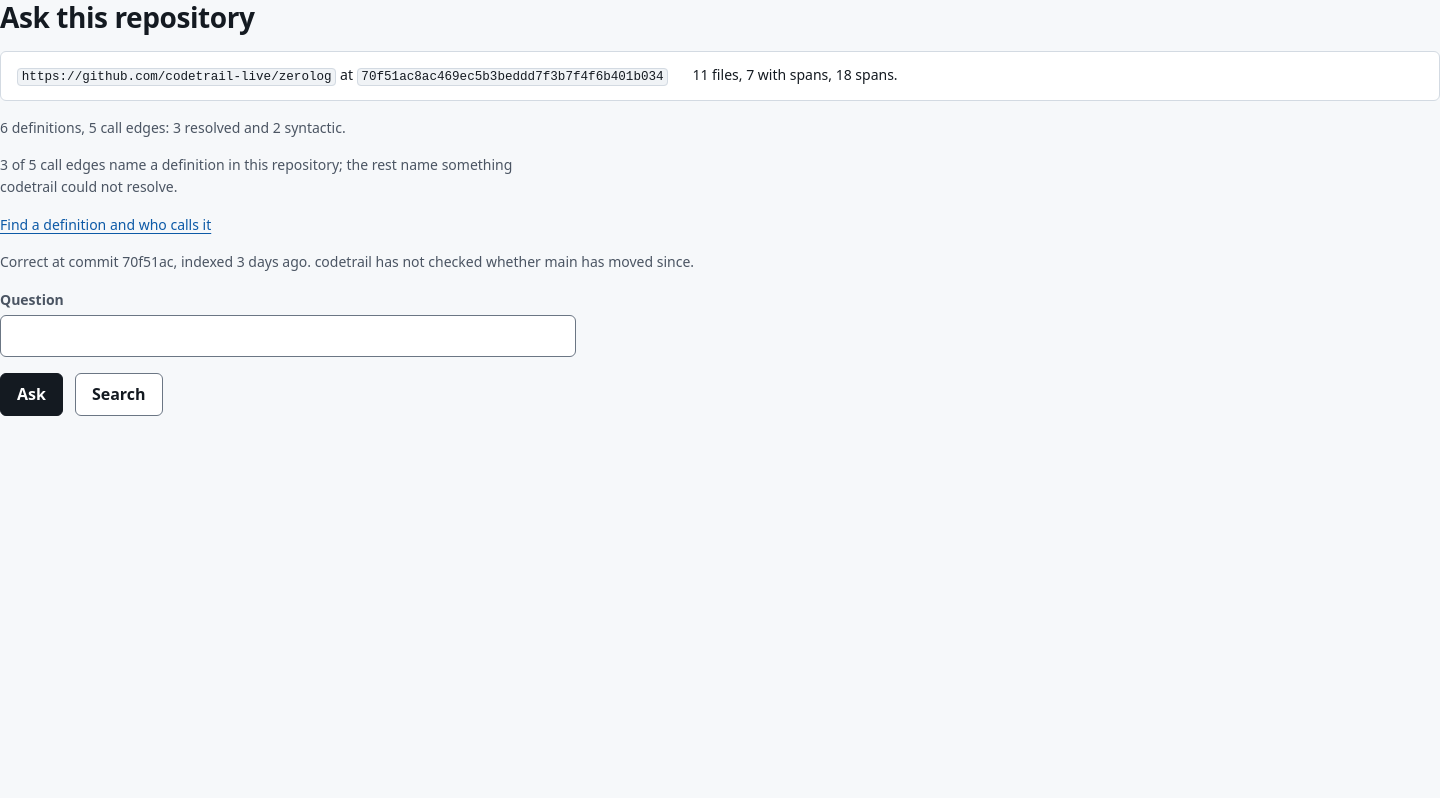
asking › an answered response renders the answer, its markers and its citations
Type "how does Push work" into the field labelled "Question". click: point(288, 336)
box: [0,315,576,357]
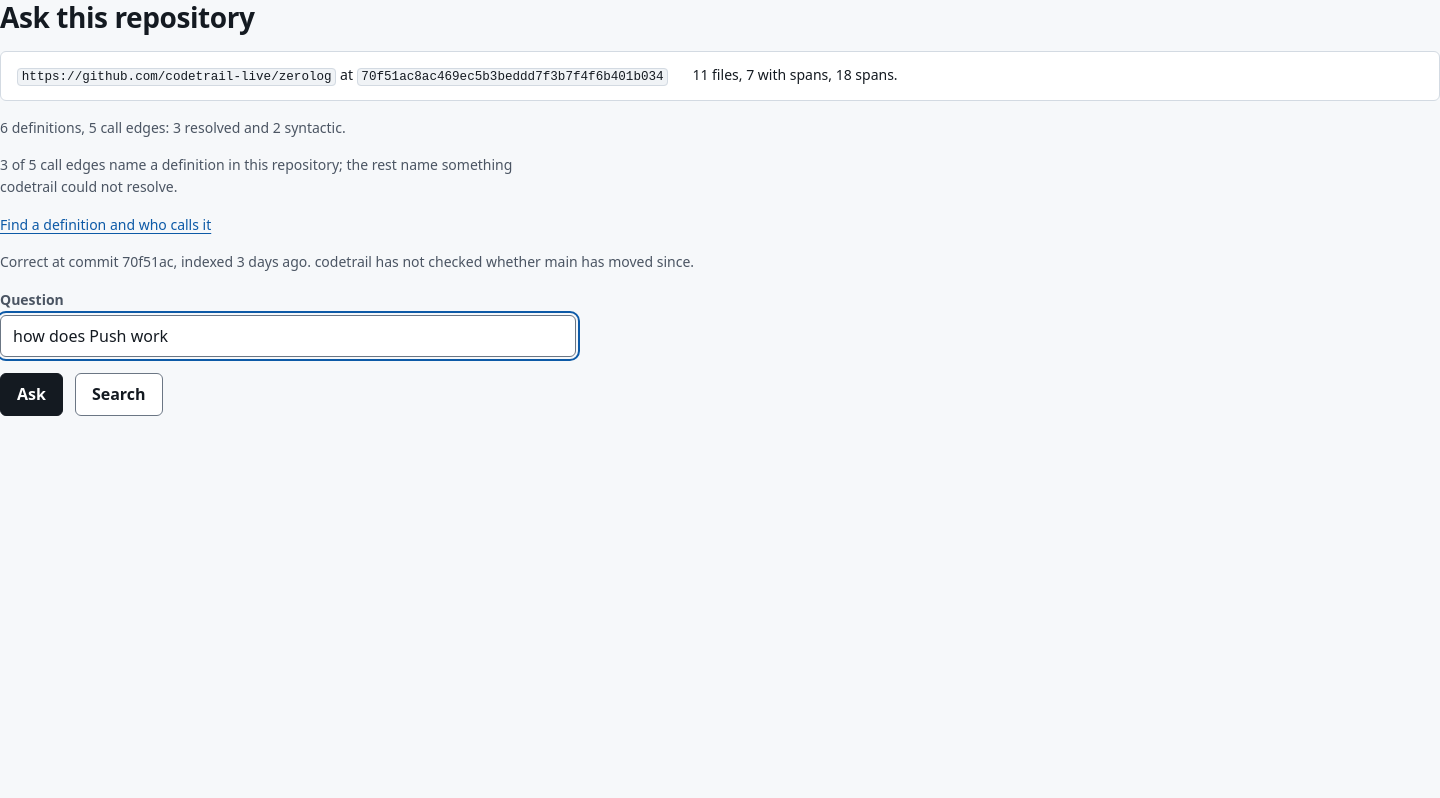
Click the button "Ask". click: point(31, 395)
box: [0,373,63,416]
(page scrolled)
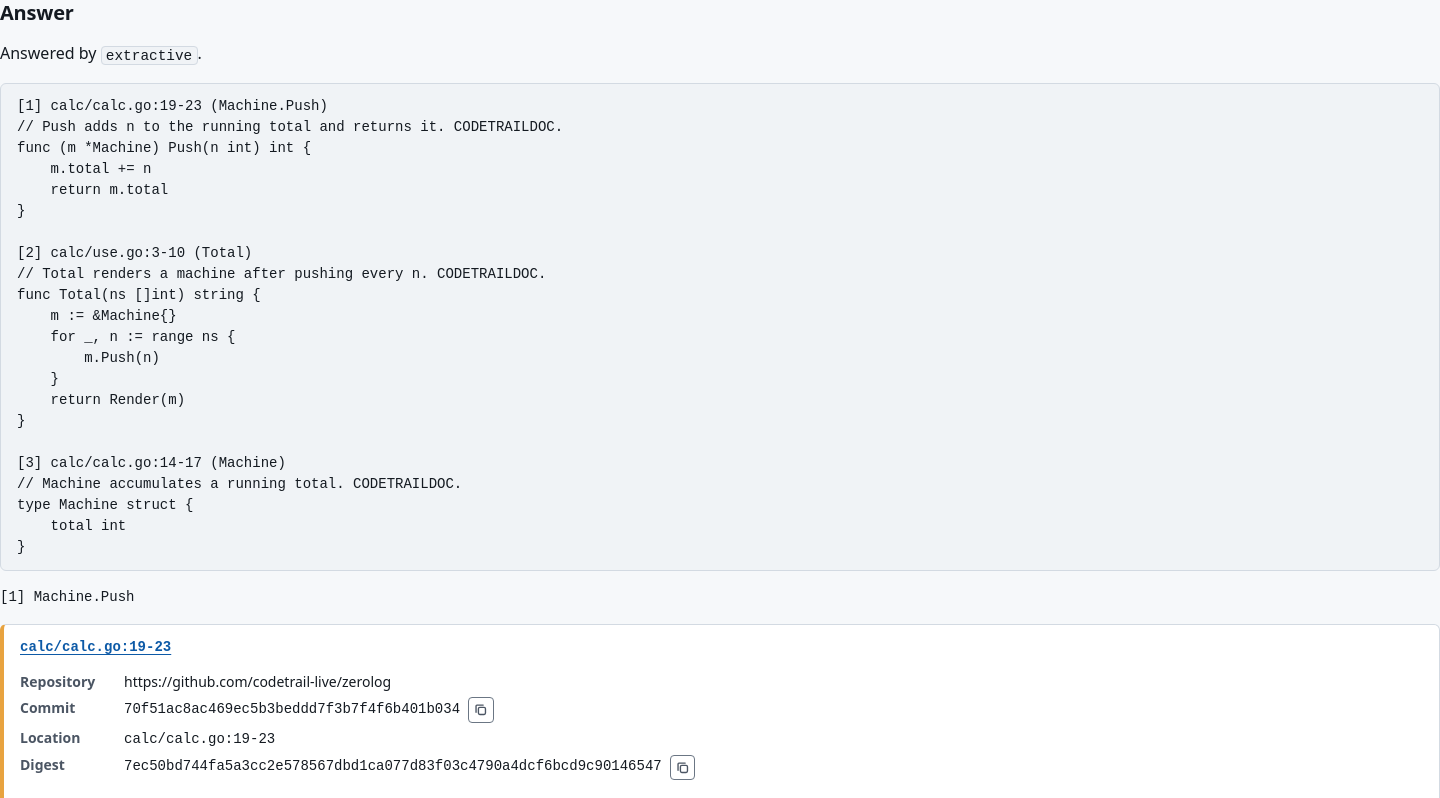
Expected: the heading "Answer" is shown, [0,0,74,26]
Expected: the number of list items is 3
Expected: the text "7ec50bd744fa5a3cc2e578567dbd1ca077d83f03c4790a4dcf6bcd9c90146547" is shown, [124,758,662,774]
